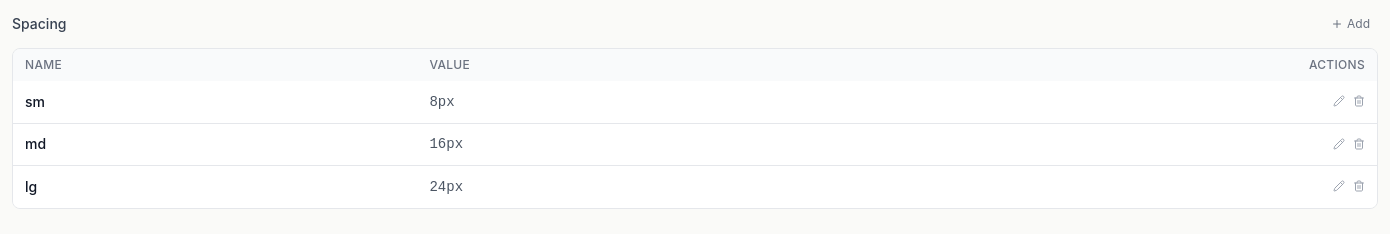
Test: SimpleTokenTable › exits edit mode when Cancel is clicked
The width and height of the screenshot is (1390, 234).
Click the button named "Edit" in the row of "sm" at (1339, 101), box [1333,95,1345,107]
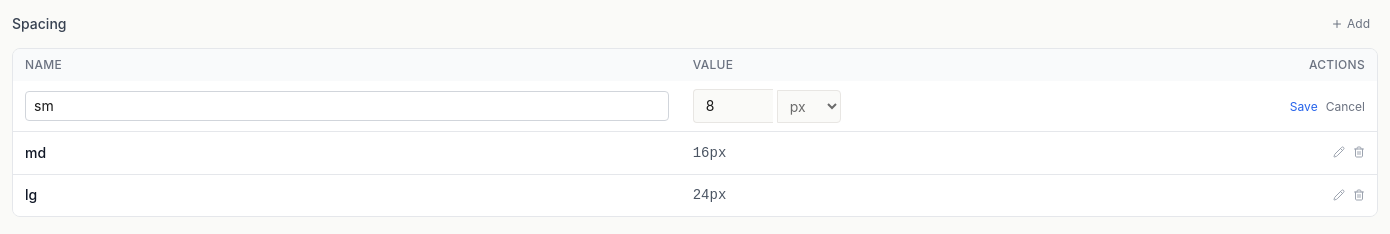
Click the button "Cancel" at (1345, 107), box [1326,99,1365,115]
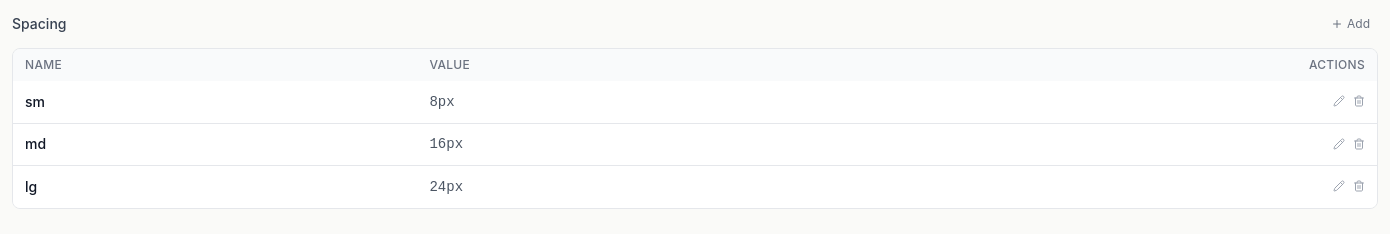
Check: the button "Save" is gone
